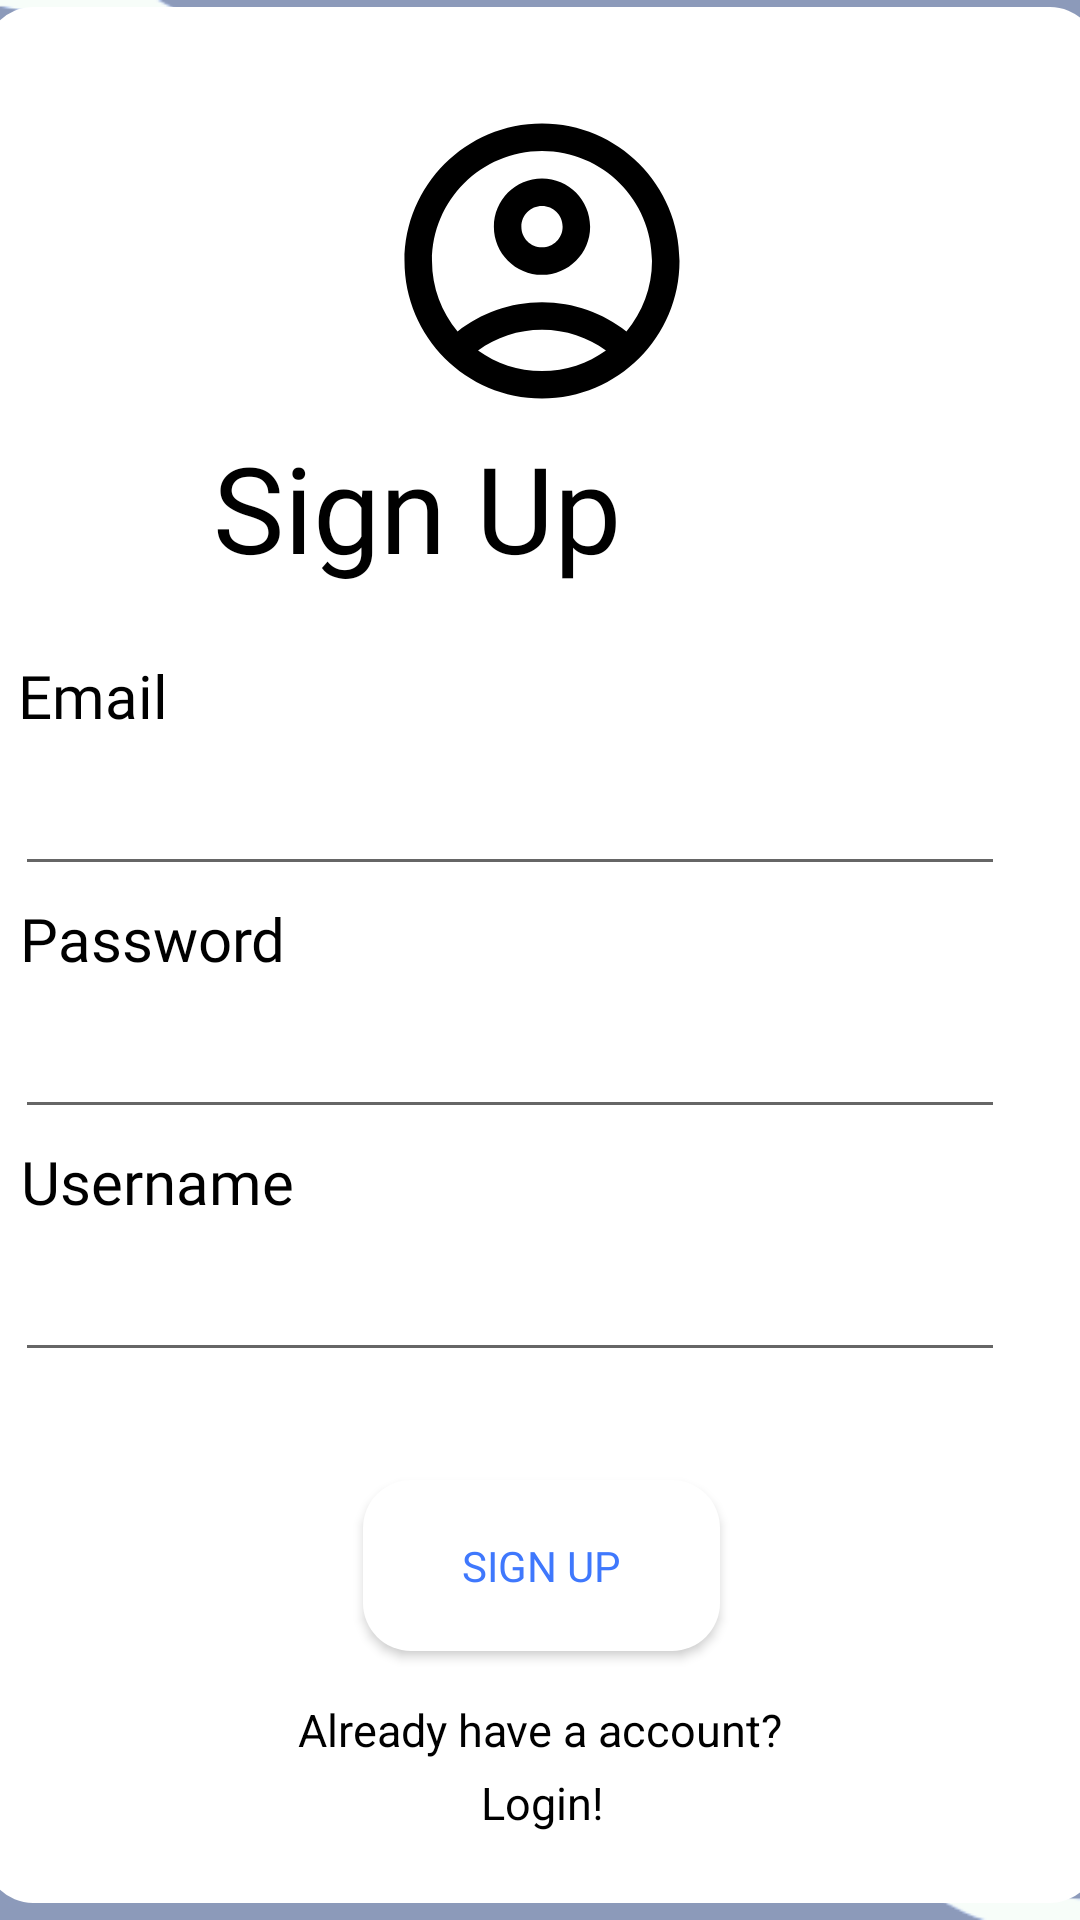

Screen size 1080px×1920px. Icon name, then its center in pixels as (x=x, y=y):
account circle: (x=542, y=261)
